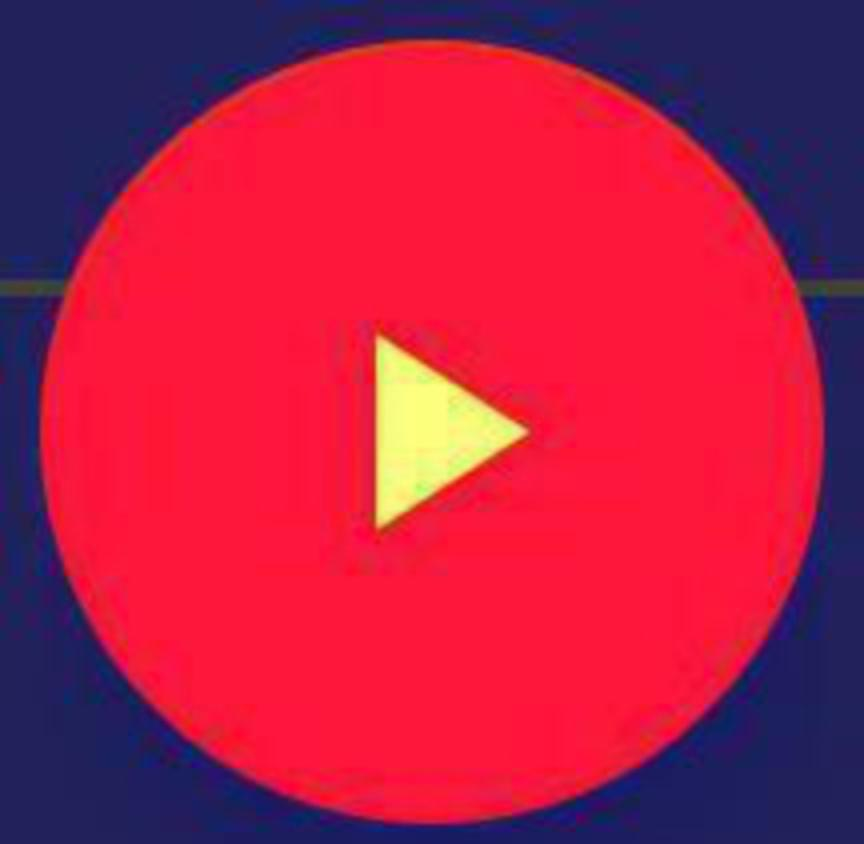ImgButton: (1, 1, 863, 843)
